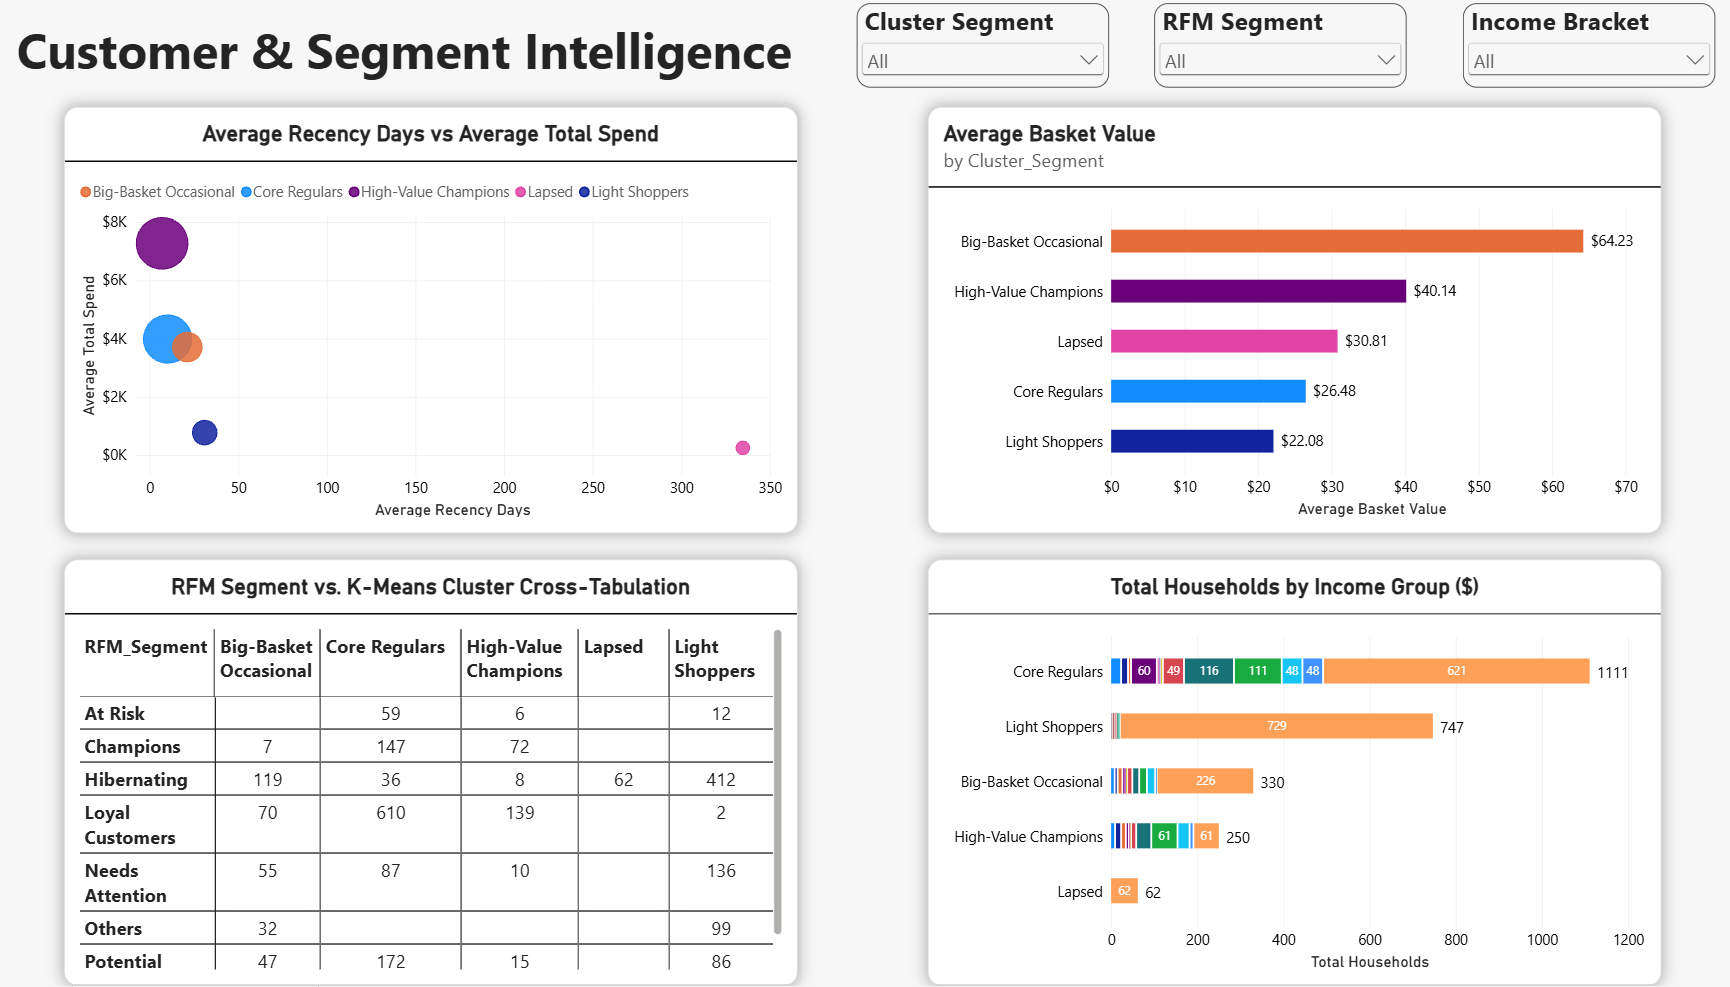

This screenshot's page, from the dashboard's own definition file:
{"tool":"powerbi","page":{"name":"Customer & Segment Intelligence","canvas":[1920,1080],"ordinal":1},"visuals":[{"type":"textbox","box":[41.6,19.9,1055,99.5],"z":0},{"type":"slicer","fields":{"Values":["pbi_household_master.Cluster_Segment"]},"box":[959.1,7.2,275.1,92.3],"z":1000},{"type":"slicer","fields":{"Values":["pbi_household_master.RFM_Segment"]},"box":[1283,7.2,275.1,92.3],"z":2000},{"type":"slicer","fields":{"Values":["pbi_household_master.Income_Group ($)"]},"box":[1619.6,7.2,275.1,92.3],"z":3000},{"type":"scatterChart","title":"Average Recency Days vs Average Total Spend","fields":{"Series":["pbi_household_master.Cluster_Segment"],"Size":["Avg(pbi_household_master.Total_Baskets)"],"X":["Avg(pbi_household_master.Recency_Days)"],"Y":["Avg(pbi_household_master.Total_Spend)"]},"box":[94.1,119.4,800,465],"z":4000},{"type":"clusteredBarChart","fields":{"Category":["pbi_household_master.Cluster_Segment"],"Y":["_Measures.Average Basket Value"]},"box":[1036.9,119.4,800,465],"z":5000},{"type":"pivotTable","title":"RFM Segment vs. K-Means Cluster Cross-Tabulation","fields":{"Columns":["pbi_household_master.Cluster_Segment"],"Rows":["pbi_household_master.RFM_Segment"],"Values":["_Measures.Total Households"]},"box":[94.1,613.5,800,465],"z":6000},{"type":"barChart","title":"Total Households by Income Group ($)","fields":{"Category":["pbi_household_master.Cluster_Segment"],"Series":["pbi_household_master.Income_Group ($)"],"Y":["_Measures.Total Households"]},"box":[1036.9,613.5,800,465],"z":7000}]}

Visuals, with their boxes in screenshot pixels (x1, y1, x2, y2), scaled from the page's 1920x1080 canvas onto the 1730x987 screenshot:
textbox: [37,18,988,109]
slicer - pbi_household_master.Cluster_Segment: [864,7,1112,91]
slicer - pbi_household_master.RFM_Segment: [1156,7,1404,91]
slicer - pbi_household_master.Income_Group ($): [1459,7,1707,91]
"Average Recency Days vs Average Total Spend" scatterChart: [85,109,806,534]
clusteredBarChart - pbi_household_master.Cluster_Segment x _Measures.Average Basket Value: [934,109,1655,534]
"RFM Segment vs. K-Means Cluster Cross-Tabulation" pivotTable: [85,561,806,986]
"Total Households by Income Group ($)" barChart: [934,561,1655,986]
